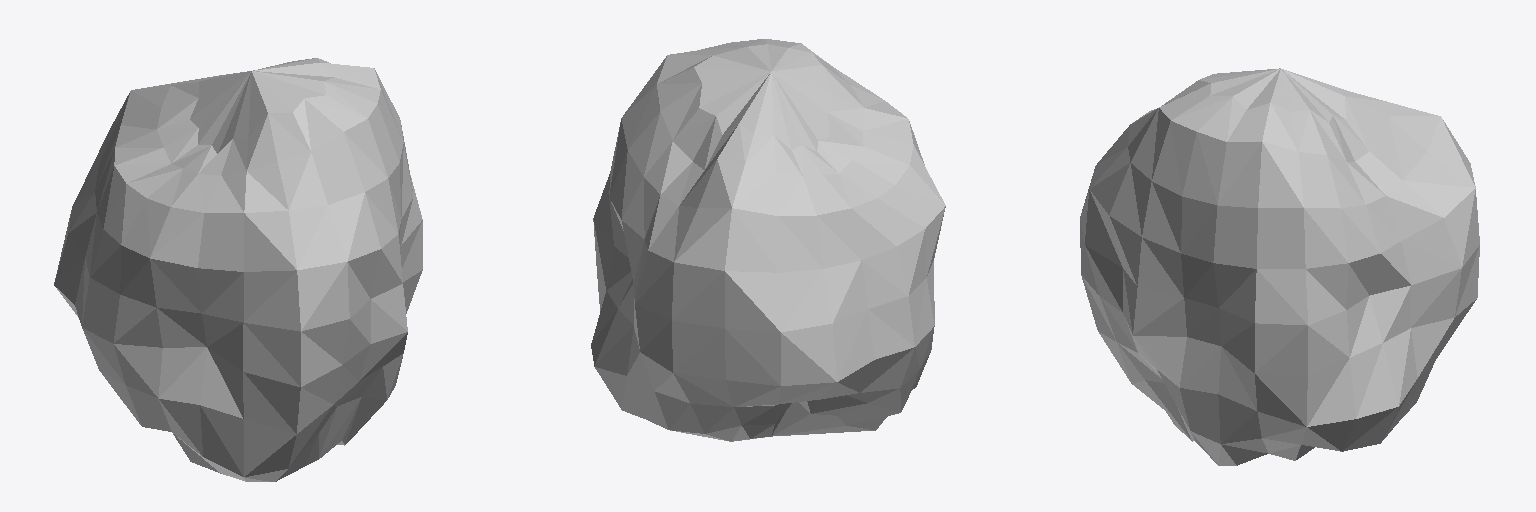
Rendered from stone.obj.
3 renders of one model, left to right at view 1: azimuth 30°, elevation 25°; view 2: azimuth 150°, elevation 25°; view 3: azimuth 270°, elevation 25°, orthographic.
Visible parts, largest first — view 1: Stone_1_LOD1; view 2: Stone_1_LOD1; view 3: Stone_1_LOD1.
Part boxes in pixels (x1,y1,x2,y2): Stone_1_LOD1: (54,58,422,481); Stone_1_LOD1: (591,39,945,441); Stone_1_LOD1: (1080,68,1479,465).
Size of the model in its own units: 1.46 by 1.61 by 1.57.